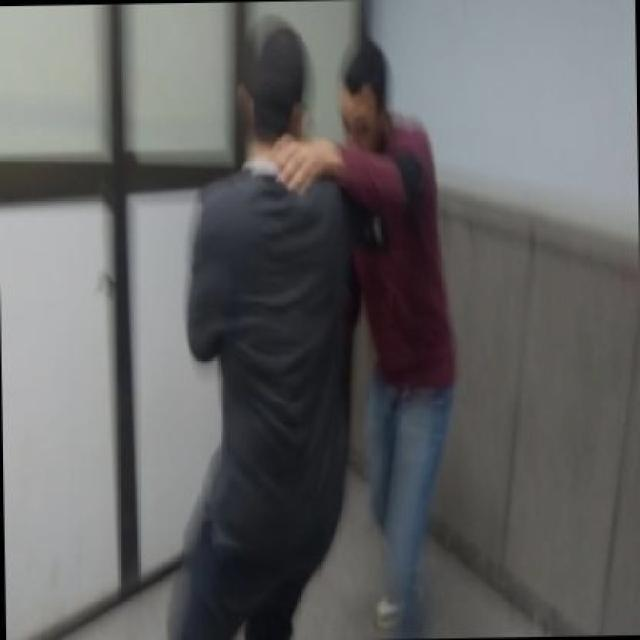fight: (93, 0, 521, 638)
